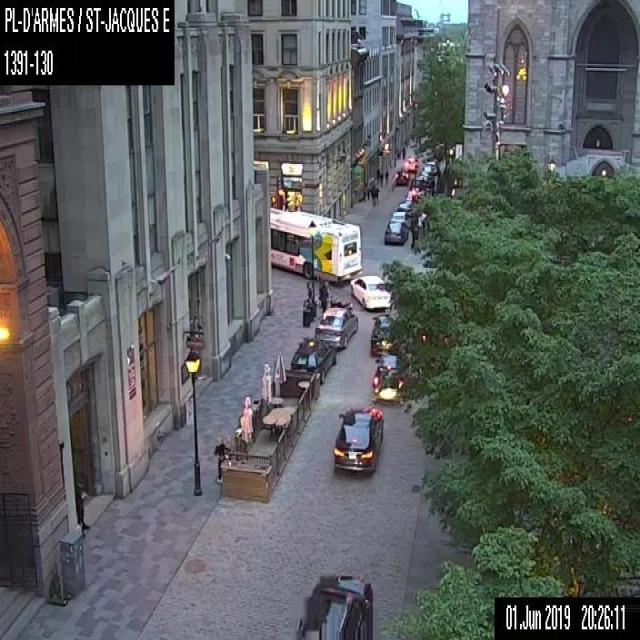bus: (269, 206, 362, 285)
pedestrian: (74, 485, 92, 539), (212, 436, 229, 482), (318, 277, 328, 311), (304, 278, 312, 301), (383, 169, 388, 184), (401, 145, 405, 160), (379, 171, 383, 186), (375, 184, 378, 200)
vehicle: (294, 572, 374, 639), (333, 406, 384, 472), (290, 337, 335, 383), (314, 306, 358, 348), (372, 356, 407, 405), (349, 274, 391, 309), (370, 313, 400, 355), (383, 218, 408, 244), (389, 210, 409, 228), (394, 168, 410, 185), (329, 297, 352, 307), (410, 176, 425, 190), (426, 160, 436, 175), (404, 157, 414, 170)
